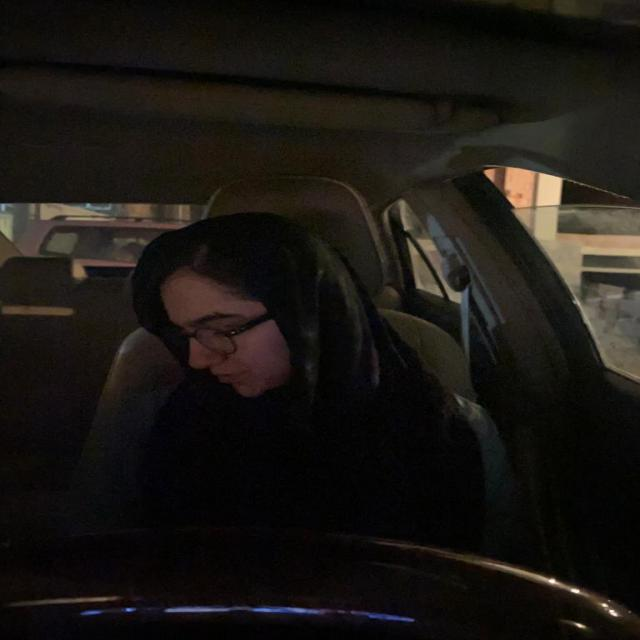drowsy: (134, 219, 340, 404)
